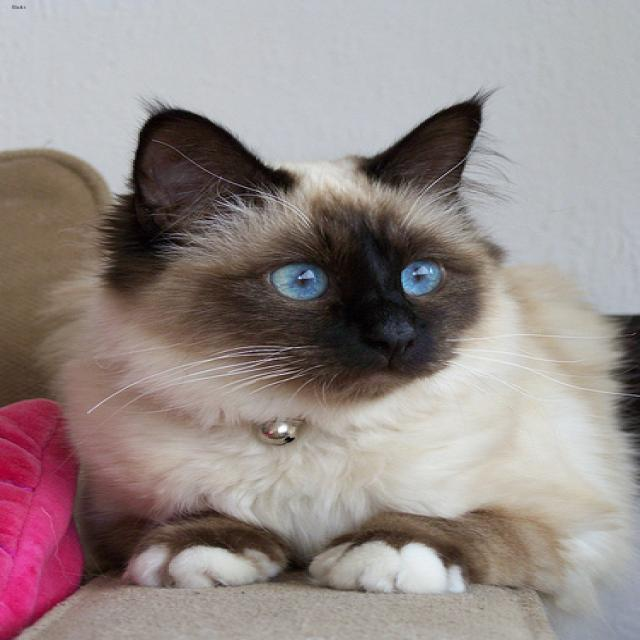Birman: (88, 86, 515, 431)
